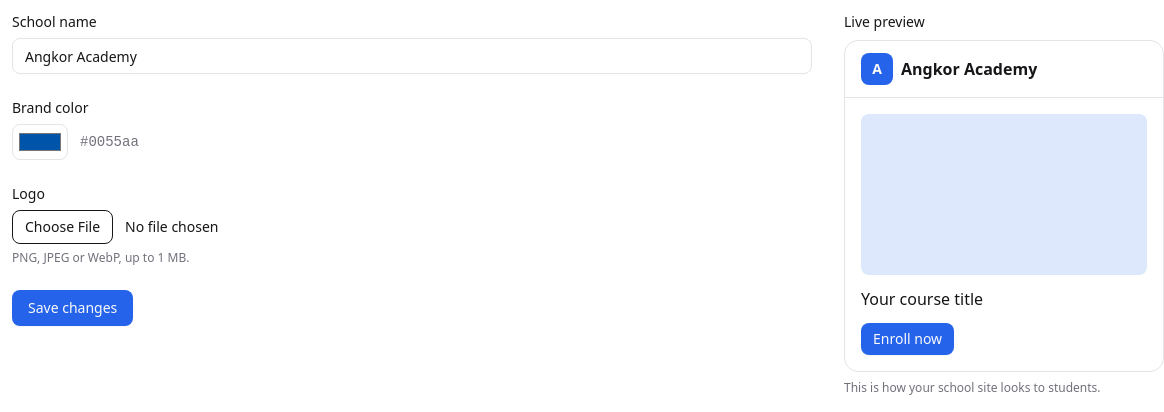
SettingsForm › updates the preview's name and brand color as they are edited
The image size is (1164, 412).
Replace the text in the field labelled "School name" with "Mekong School". click: point(412, 56)
box: [12,38,812,74]
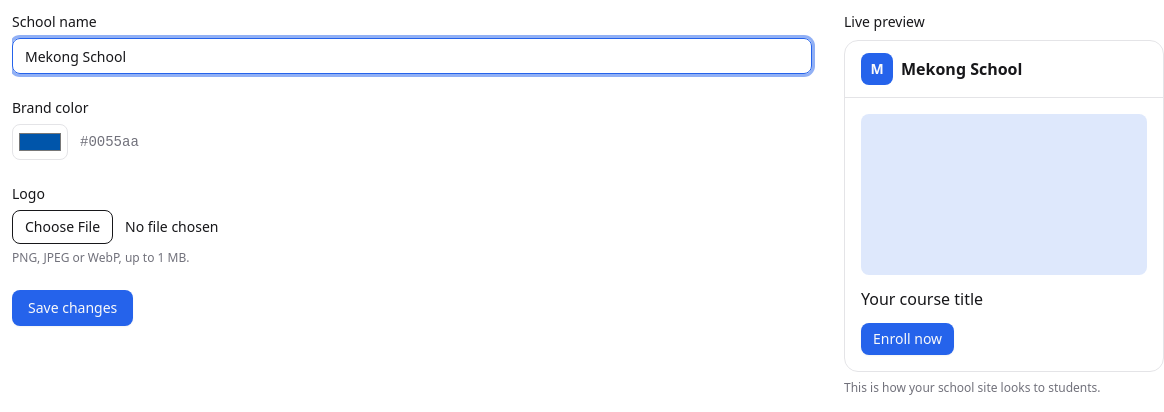
Expected: the text "Mekong School" is shown, [901,57,1022,81]
Expected: the picture named "Logo preview" reads "M", [870,59,884,78]
user-event cannot drive a native color picker, so fire the change the picker would.
Type "#112233" into the colour field labelled "Brand color". click: point(40, 142)
box: [12,124,68,160]
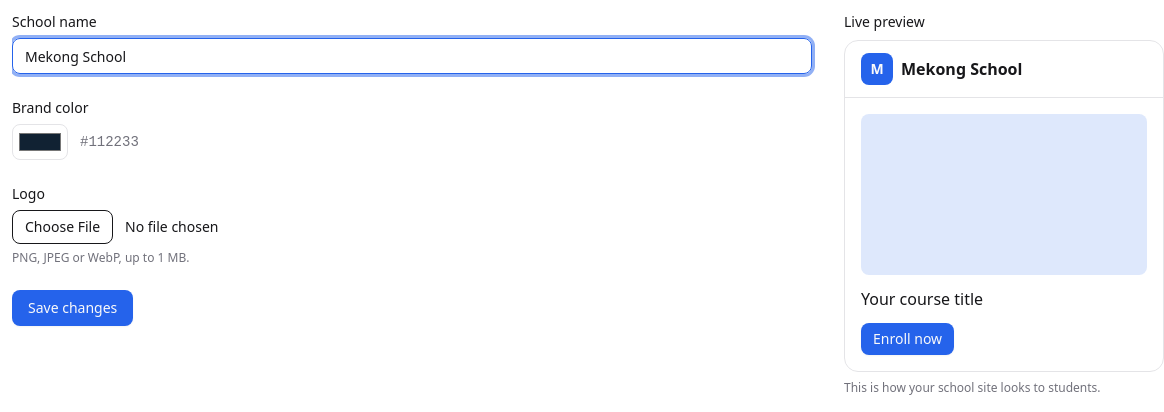
Expected: the text "#112233" is shown, [80,132,139,152]
